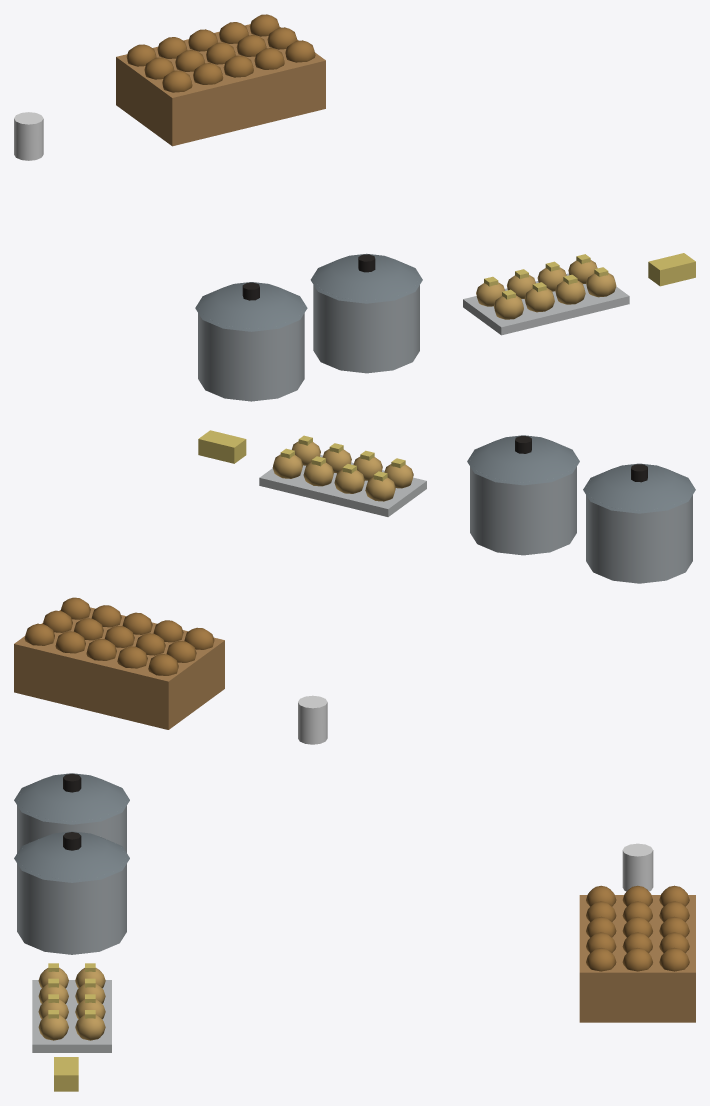
File: goods_steamer.glb
3 views of the same model, one above another, from view 1: azimuth 30°, elevation 25°; view 2: azimuth 150°, elevation 25°; view 3: azimuth 270°, elevation 25° (orthographic). The views are drawn at different scales.
Parts seen in each view (by area): view 1: goods_steamer; view 2: goods_steamer; view 3: goods_steamer.
Boxes of the visible parts, <box> form: goods_steamer: <box>14,14,695,401</box>; goods_steamer: <box>14,430,695,744</box>; goods_steamer: <box>14,773,695,1091</box>.
Bounding box in the file's own units: 1.89 × 0.346 × 2.23.
